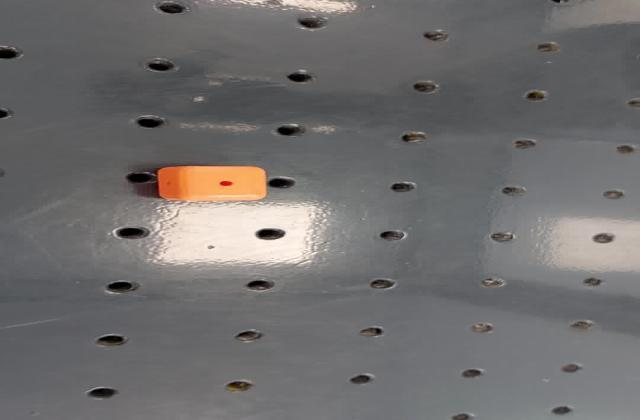cube: (153, 162, 274, 207)
